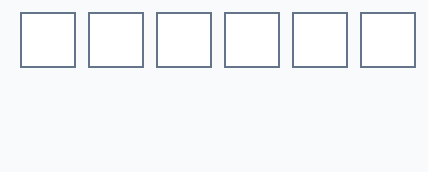
Test case: OtpInput › moves the tab stop to the first empty box and redirects a click on a later box there
Later steps or results of the test are not shown.
Click the field named "رقم ۱" at {"x": 48, "y": 40}, box [20,12,76,68]
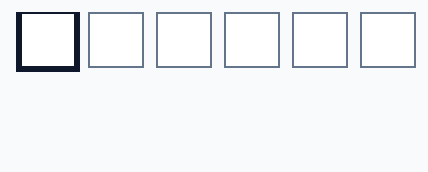
Type keys "12"
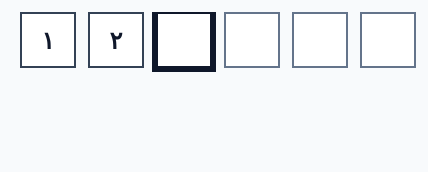
Result: the field named "رقم ۱" has attribute tabindex="-1" at [20,12,76,68]
